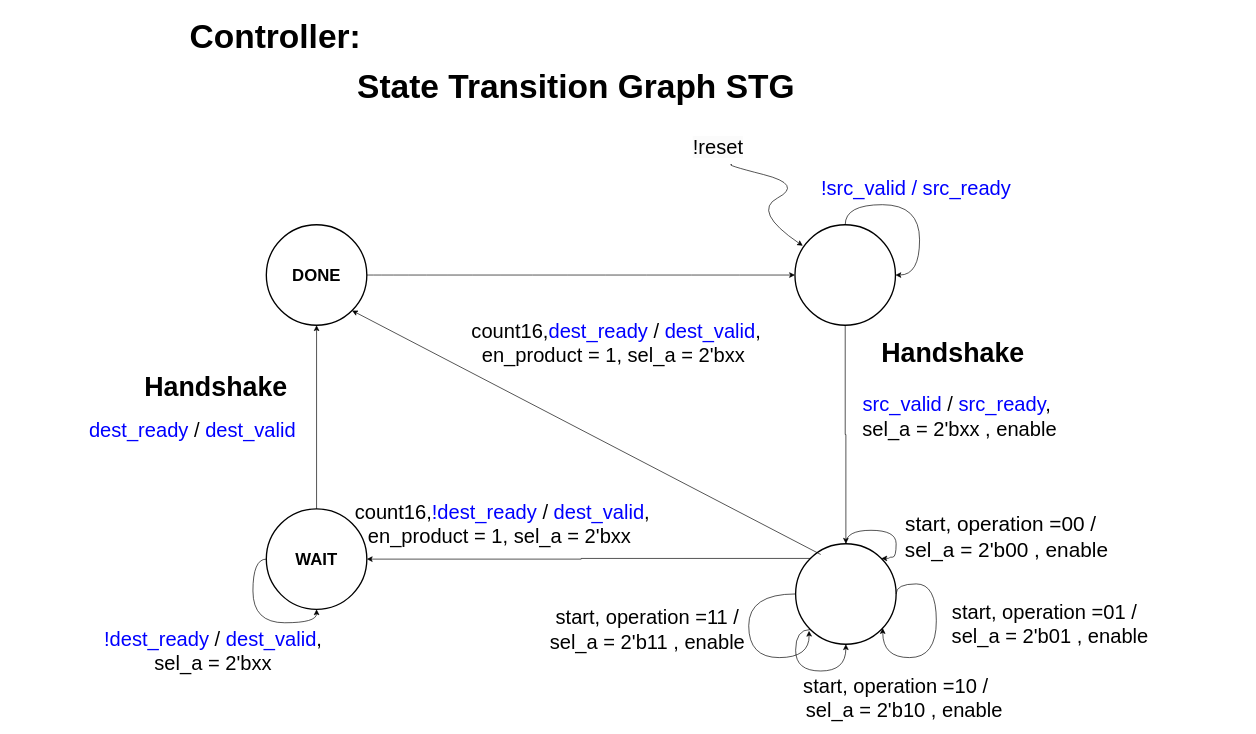
The diagram is 1256 pixels wide and 734 high, and some of its shapes have lost their labels. The shapes that lost their labels are listed below. From the top down, each one's centre as x and y in pixels, then its label:
At point 845,275: "IDLE".
At point 845,594: "PROCESS".
